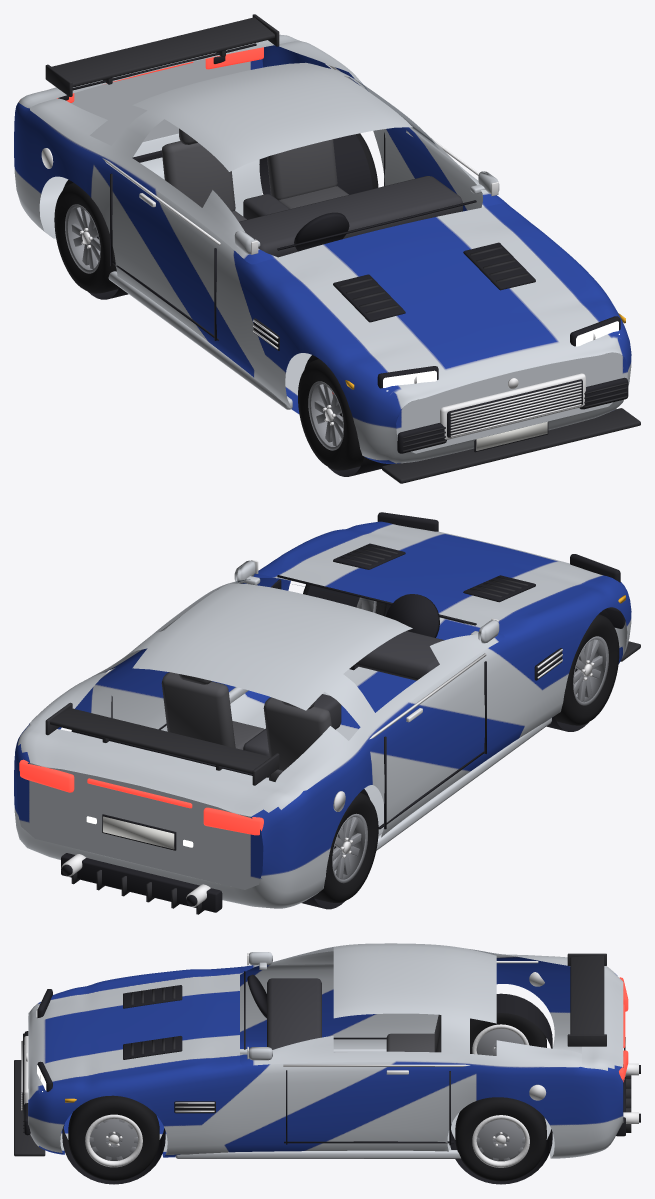
File: car_01_gt.glb
3 renders of one model, top to bottom at view 1: azimuth 30°, elevation 25°; view 2: azimuth 150°, elevation 25°; view 3: azimuth 270°, elevation 25°, orthographic. The views are drawn at different scales.
Parts seen in each view (by area): view 1: Body, Details, Cabin, Interior, Wheel_FL_Mesh, Wheel_RL_Mesh; view 2: Body, Cabin, Details, Interior, Wheel_FL_Mesh, Wheel_RL_Mesh; view 3: Body, Cabin, Details, Wheel_FR_Mesh, Wheel_RR_Mesh, Interior, Wheel_RL_Mesh.
Part boxes in pixels (x1,y1,x2,y2): Body: [14, 34, 631, 463]; Details: [41, 14, 640, 483]; Cabin: [30, 41, 504, 264]; Interior: [161, 128, 462, 257]; Wheel_FL_Mesh: [298, 359, 363, 470]; Wheel_RL_Mesh: [54, 182, 119, 293]; Body: [14, 521, 631, 908]; Cabin: [30, 574, 504, 790]; Details: [19, 512, 640, 914]; Interior: [161, 594, 444, 781]; Wheel_FL_Mesh: [554, 614, 619, 725]; Wheel_RL_Mesh: [313, 792, 378, 902]; Body: [28, 956, 623, 1158]; Cabin: [240, 943, 581, 1067]; Details: [14, 952, 640, 1184]; Wheel_FR_Mesh: [68, 1095, 159, 1180]; Wheel_RR_Mesh: [455, 1097, 546, 1181]; Interior: [247, 974, 441, 1052]; Wheel_RL_Mesh: [470, 1013, 546, 1055].
Size of the model in its own units: 2.07 by 1.38 by 4.8.
Materials: 16 (1 with a texture image).
